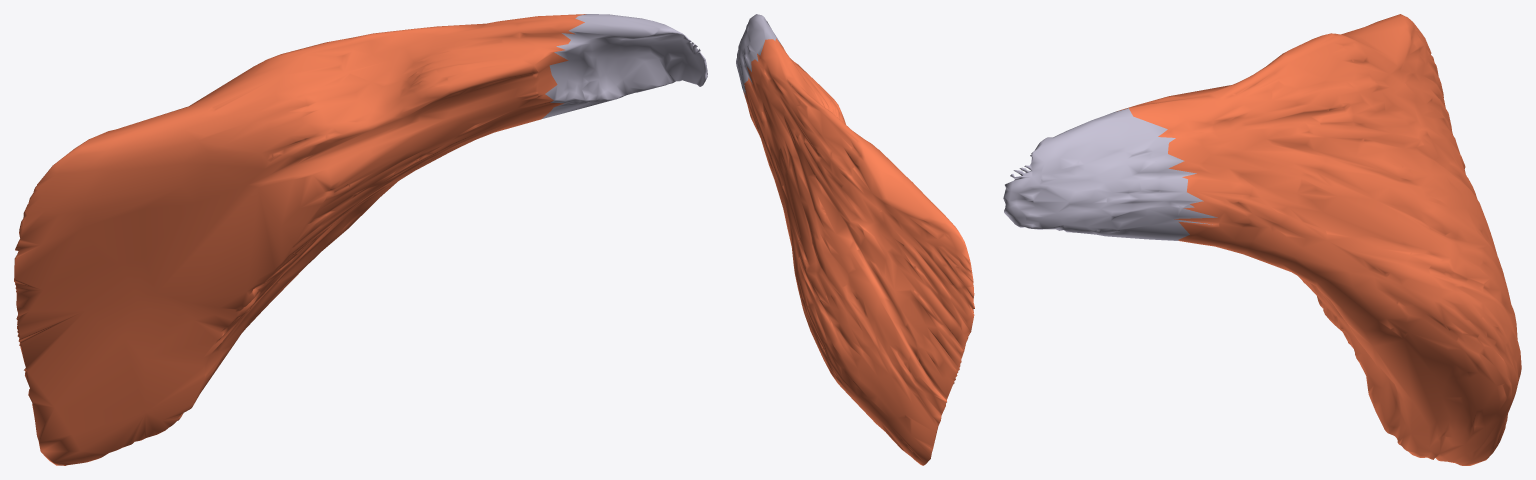
Rendered from Infraspinatus_left.glb.
3 views of the same model, side by side, from view 1: azimuth 30°, elevation 25°; view 2: azimuth 150°, elevation 25°; view 3: azimuth 270°, elevation 25° (orthographic). The views are drawn at different scales.
Visible parts, largest first — view 1: Infraspinatus_muscle.l_Generated_Mesh_From_X3D.462; view 2: Infraspinatus_muscle.l_Generated_Mesh_From_X3D.462; view 3: Infraspinatus_muscle.l_Generated_Mesh_From_X3D.462.
Part boxes in pixels (bbox=[...]): Infraspinatus_muscle.l_Generated_Mesh_From_X3D.462: bbox=[14, 14, 707, 465]; Infraspinatus_muscle.l_Generated_Mesh_From_X3D.462: bbox=[736, 14, 974, 465]; Infraspinatus_muscle.l_Generated_Mesh_From_X3D.462: bbox=[1003, 14, 1521, 465].
Size of the model in its own units: 0.1325 by 0.1136 by 0.0918.
